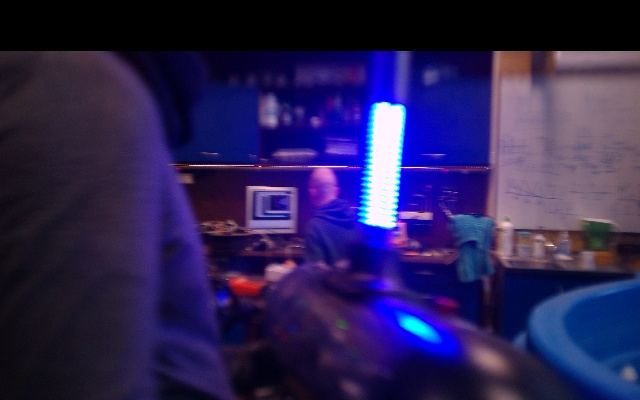blue: (357, 101, 407, 230)
